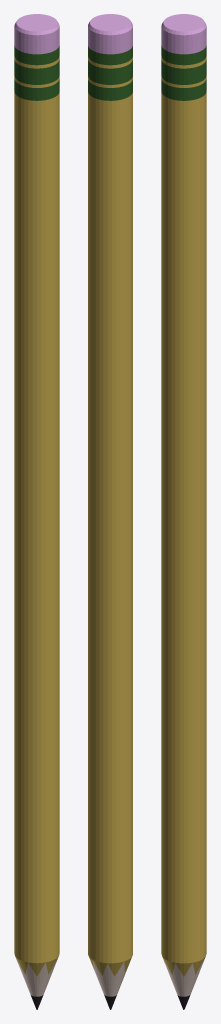
File: Pencil EXPORT.fbx
3 renders of one model, left to right at view 1: azimuth 90°, elevation 25°; view 2: azimuth 150°, elevation 25°; view 3: azimuth 270°, elevation 25°, orthographic.
Parts seen in each view (by area): view 1: Cylinder.001; view 2: Cylinder.001; view 3: Cylinder.001.
Boxes of the visible parts, x1,y1,x2,y2 form: Cylinder.001: (14,14,59,1009); Cylinder.001: (88,14,132,1009); Cylinder.001: (161,14,206,1009).
Bounding box in the file's own units: 13.76 × 333 × 13.76.
